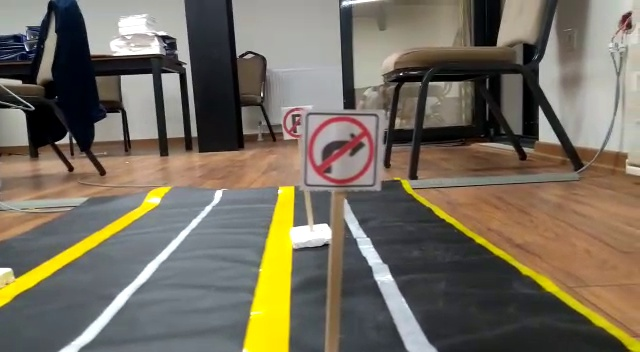park_yapilmaz: (283, 106, 307, 139)
saga_donulmez: (308, 115, 376, 184)
